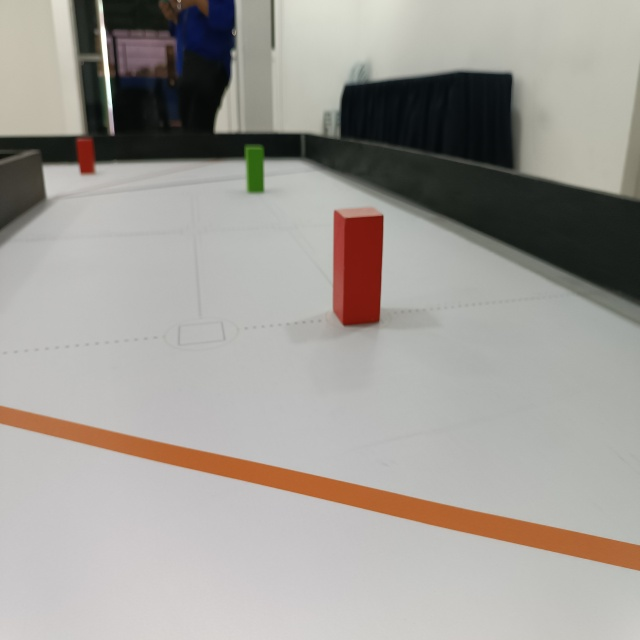green rectangular prism: (241, 145, 269, 192)
orange line: (0, 404, 640, 574)
red rectangular prism: (330, 210, 388, 332), (74, 137, 98, 180)
